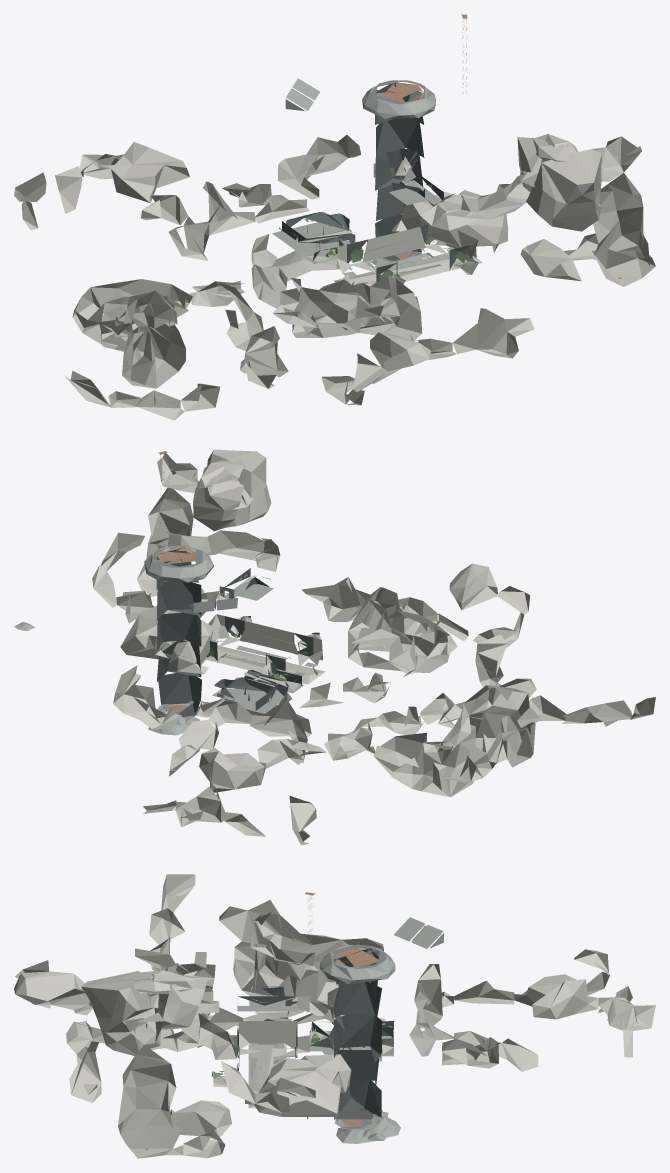
The model's file is cave_large_sewers_hard.glb.
3 renders of one model, top to bottom at view 1: azimuth 30°, elevation 25°; view 2: azimuth 150°, elevation 25°; view 3: azimuth 270°, elevation 25°, orthographic. The views are drawn at different scales.
Parts seen in each view (by area): view 1: ground_cloth_a_LOD0, roots_clump_long, rock_ledge_a_LOD0, mine_tnl_exit_LOD0, LOD0; view 2: ground_cloth_a_LOD0, roots_clump_long, rock_ledge_a_LOD0, mine_tnl_exit_LOD0; view 3: ground_cloth_a_LOD0, roots_clump_long, rock_ledge_a_LOD0, mine_tnl_exit_LOD0, driftwood_set_2_LOD0.
Boxes of the visible parts, x1,y1,x2,y2 form: ground_cloth_a_LOD0: (14,134,655,420); roots_clump_long: (282,82,470,281); rock_ledge_a_LOD0: (272,78,474,284); mine_tnl_exit_LOD0: (370,14,621,278); LOD0: (351,159,477,281); ground_cloth_a_LOD0: (92,449,655,845); roots_clump_long: (156,547,313,717); rock_ledge_a_LOD0: (14,542,320,735); mine_tnl_exit_LOD0: (156,451,205,716); ground_cloth_a_LOD0: (14,874,655,1158); roots_clump_long: (237,948,393,1119); rock_ledge_a_LOD0: (213,917,443,1143); mine_tnl_exit_LOD0: (145,892,441,1150); driftwood_set_2_LOD0: (332,944,385,1128).
Bounding box in the file's own units: 167 × 72.88 × 160.
